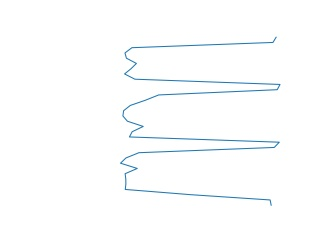majorRiverChannelBar: (116, 37, 285, 207)
